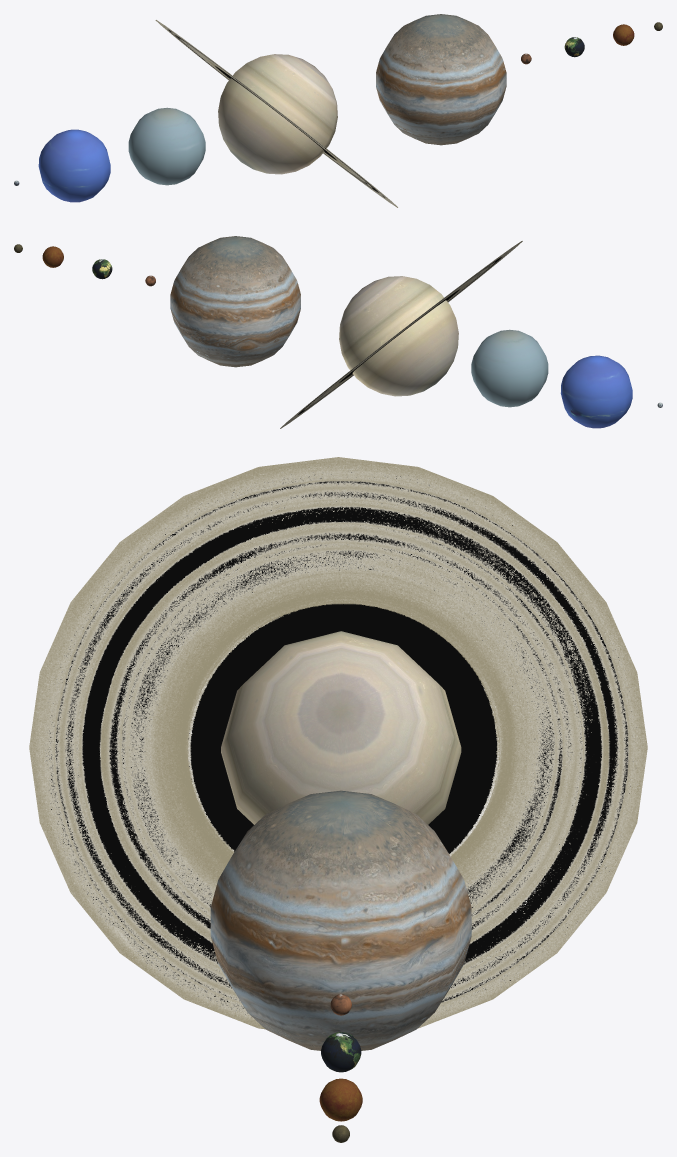
Rendered from Sistema solar.dae.
3 renders of one model, top to bottom at view 1: azimuth 30°, elevation 25°; view 2: azimuth 150°, elevation 25°; view 3: azimuth 270°, elevation 25°, orthographic. The views are drawn at different scales.
Parts seen in each view (by area): view 1: selected_f_4, group_1, selected_f_8, group_3, group_2, selected_f_1, selected_f_2; view 2: selected_f_4, group_1, selected_f_8, group_3, group_2, selected_f_1, selected_f_2; view 3: group_2, selected_f_4, group_1, selected_f_1, selected_f_2.
Part boxes in pixels (box(x1,y1,x2,y2)): selected_f_4: box(376, 14, 506, 145); group_1: box(218, 54, 337, 174); selected_f_8: box(128, 107, 205, 185); group_3: box(38, 129, 110, 202); group_2: box(155, 20, 397, 207); selected_f_1: box(613, 24, 634, 45); selected_f_2: box(564, 37, 584, 57); selected_f_4: box(170, 236, 300, 367); group_1: box(339, 276, 458, 396); selected_f_8: box(471, 329, 548, 407); group_3: box(560, 355, 632, 428); group_2: box(280, 241, 522, 428); selected_f_1: box(42, 246, 63, 267); selected_f_2: box(92, 259, 112, 279); group_2: box(29, 457, 647, 1029); selected_f_4: box(210, 790, 471, 1050); group_1: box(221, 631, 461, 824); selected_f_1: box(319, 1078, 362, 1121); selected_f_2: box(321, 1032, 361, 1072).
Bounding box in the file's own units: 10.31 × 4.26 × 3.01.
10 materials, 10 textured.
